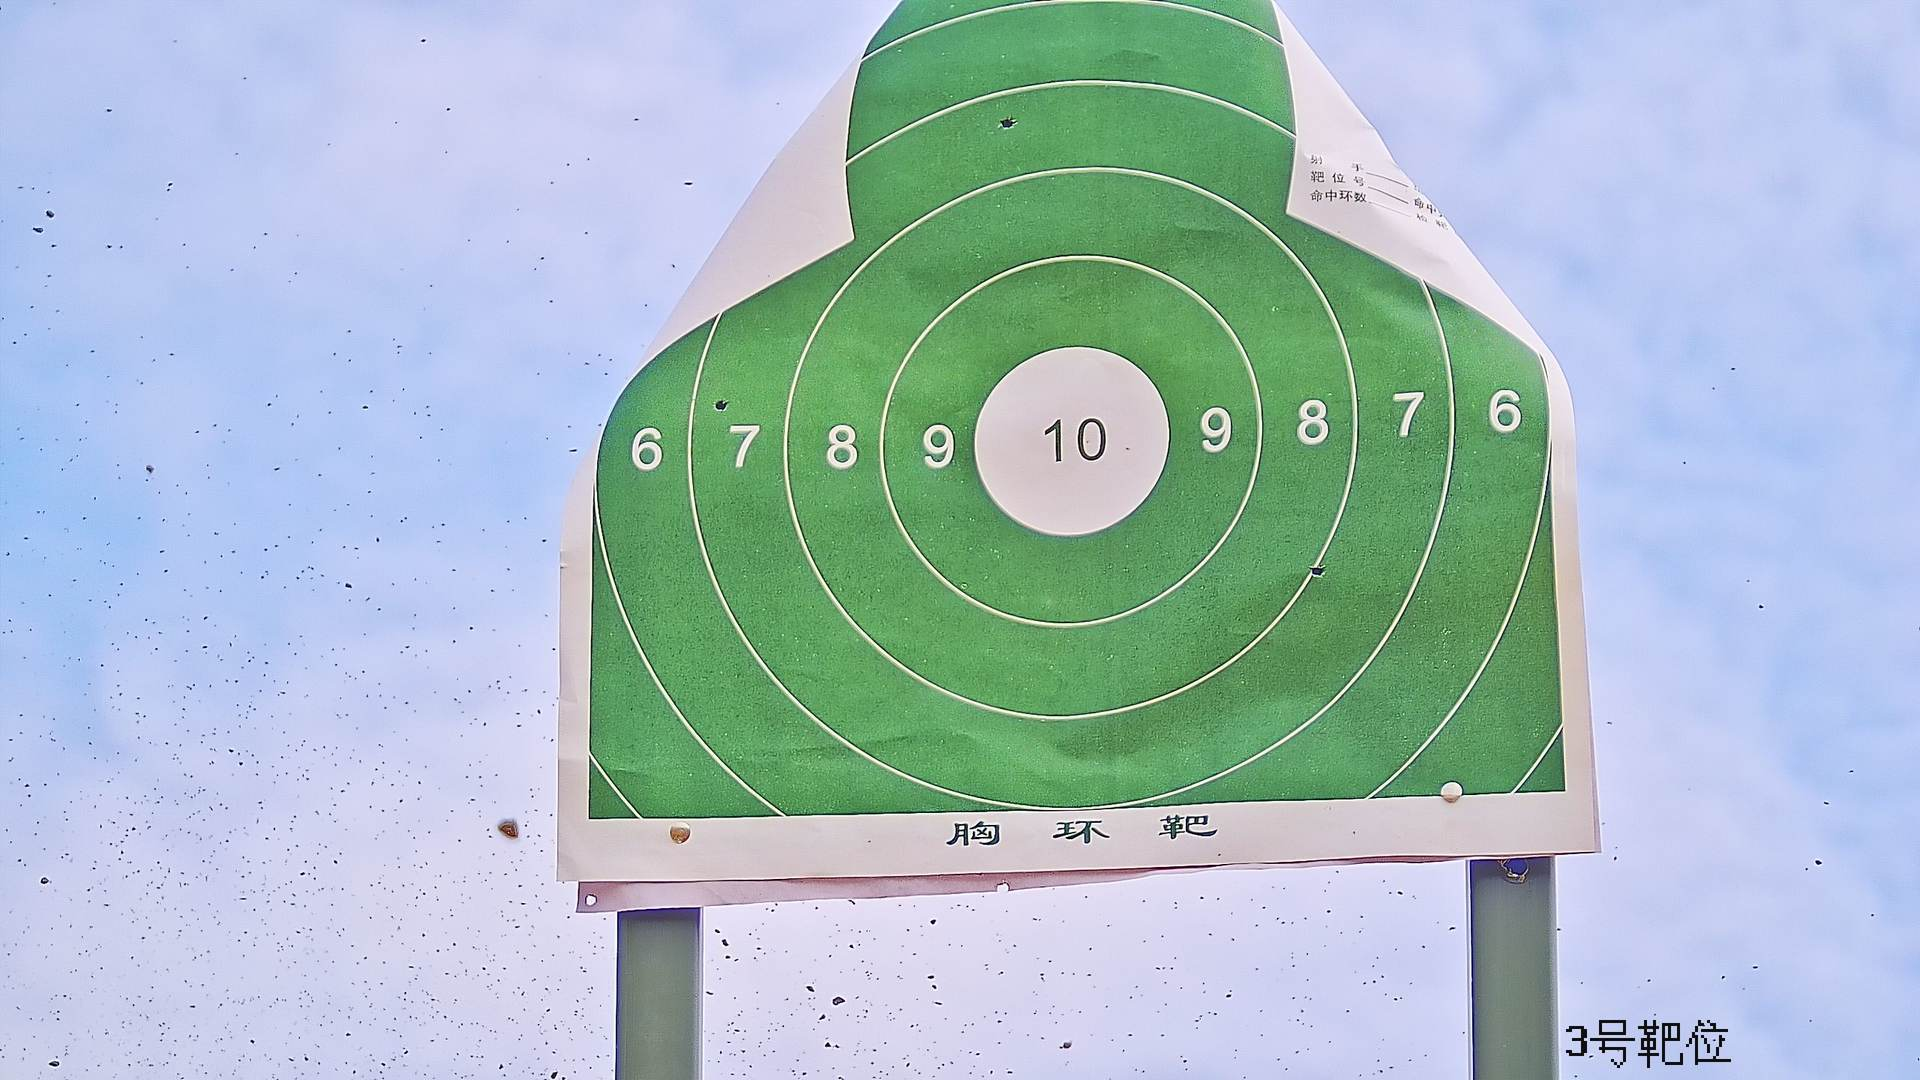hole: (1312, 560, 1325, 580), (713, 397, 728, 411), (997, 115, 1013, 128)
target: (589, 5, 1569, 822)
ten: (967, 345, 1170, 541)
